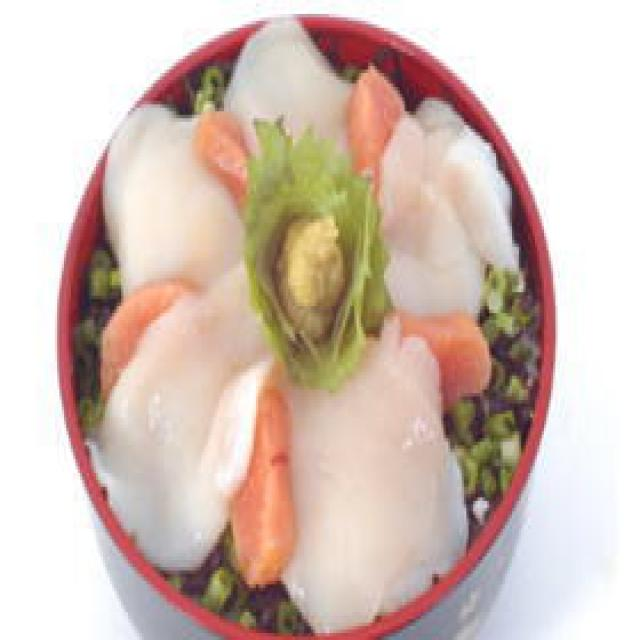刺身生食: (43, 0, 560, 640)
